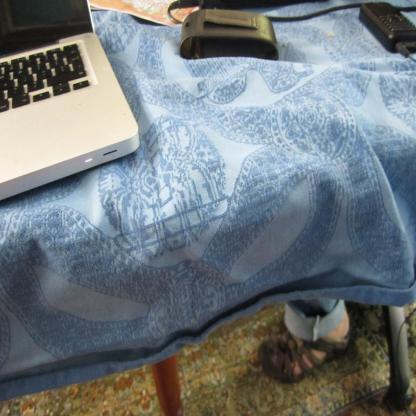board: (0, 0, 140, 205)
